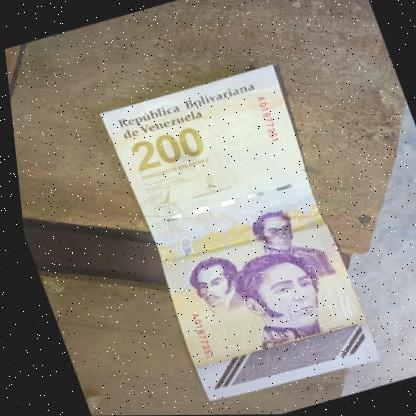vef_front: (94, 64, 377, 406)
